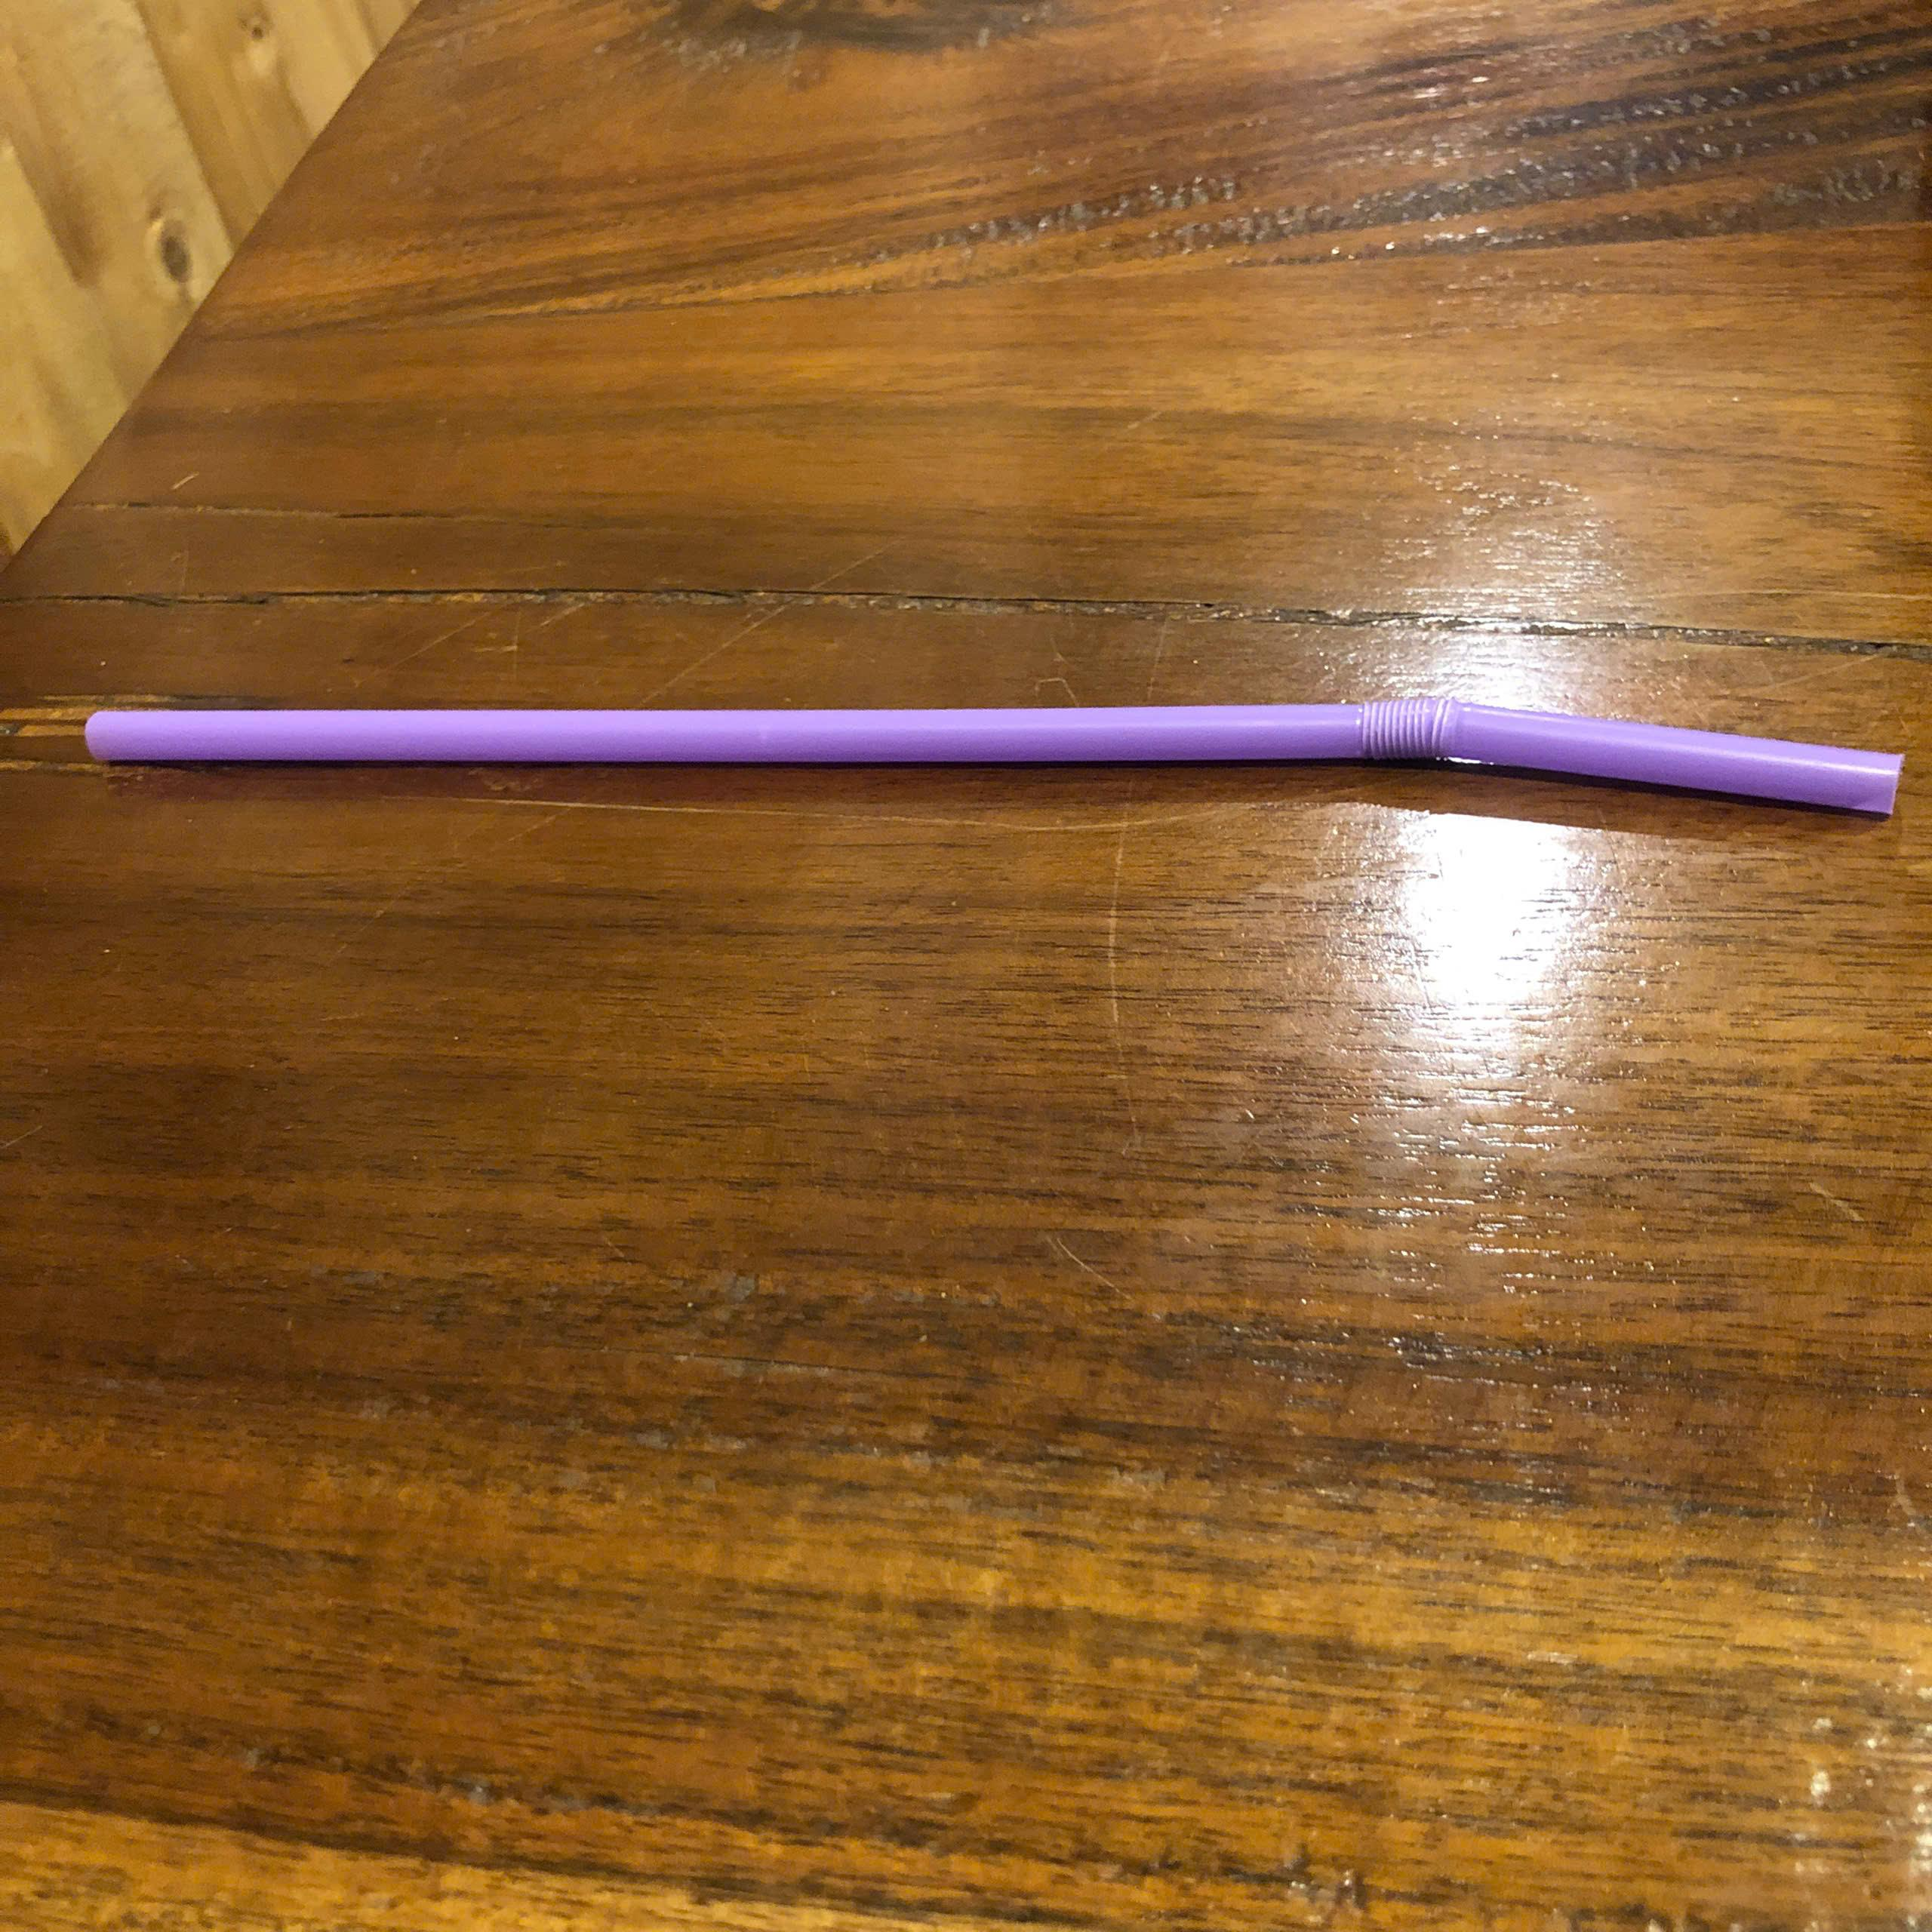Vo co: (83, 695, 1905, 819)
